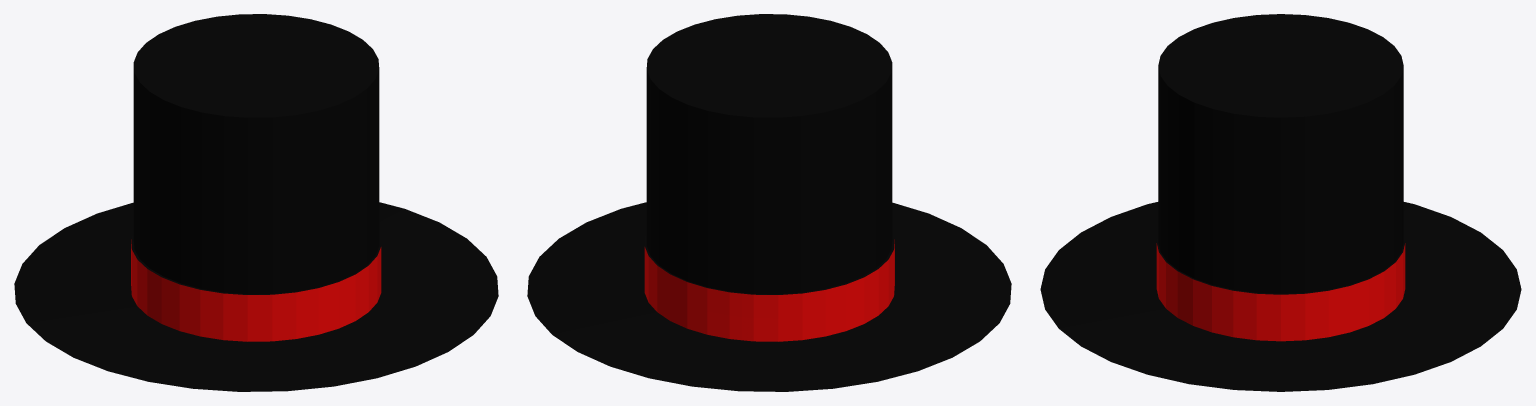
The model's file is SombreroMonopoli.fbx.
3 views of the same model, side by side, from view 1: azimuth 30°, elevation 25°; view 2: azimuth 150°, elevation 25°; view 3: azimuth 270°, elevation 25° (orthographic).
Parts seen in each view (by area): view 1: Sombrero; view 2: Sombrero; view 3: Sombrero.
Part boxes in pixels (left/top/right/bottom): Sombrero: left=14, top=14, right=498, bottom=391; Sombrero: left=527, top=14, right=1011, bottom=391; Sombrero: left=1040, top=14, right=1521, bottom=391.
Bounding box in the file's own units: 3.95 × 2.01 × 3.92.
Materials: 1 (1 with a texture image).
